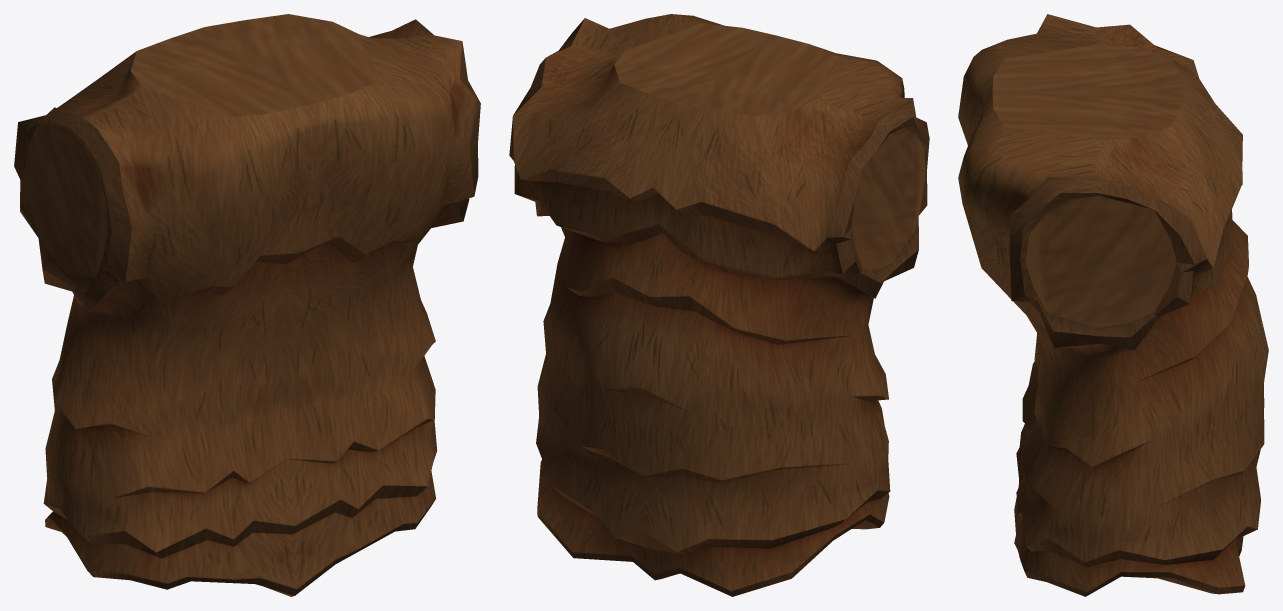
The picture shows the model from 3 angles, left to right: view 1: azimuth 30°, elevation 25°; view 2: azimuth 150°, elevation 25°; view 3: azimuth 270°, elevation 25°; orthographic projection. The views are drawn at different scales.
Visible parts, largest first — view 1: Mesh; view 2: Mesh; view 3: Mesh.
Boxes of the visible parts, x1=… form: Mesh: x1=14, y1=14, x2=480, y2=596; Mesh: x1=509, y1=14, x2=929, y2=596; Mesh: x1=958, y1=14, x2=1268, y2=596.
Size of the model in its own units: 2.08 by 2.64 by 1.59.
